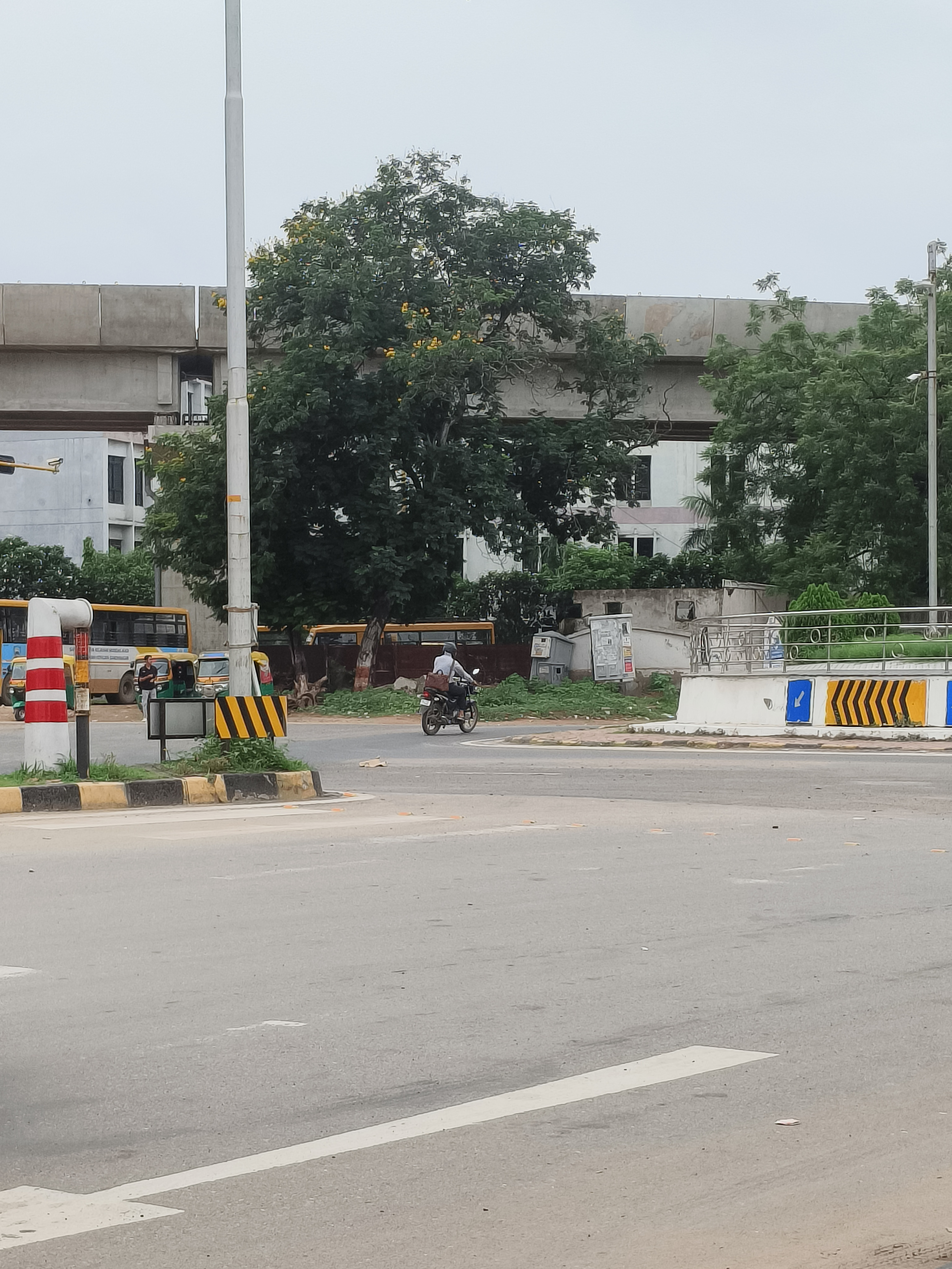BikeWithRider: (415, 641, 485, 735)
Helmet: (442, 641, 459, 659)
